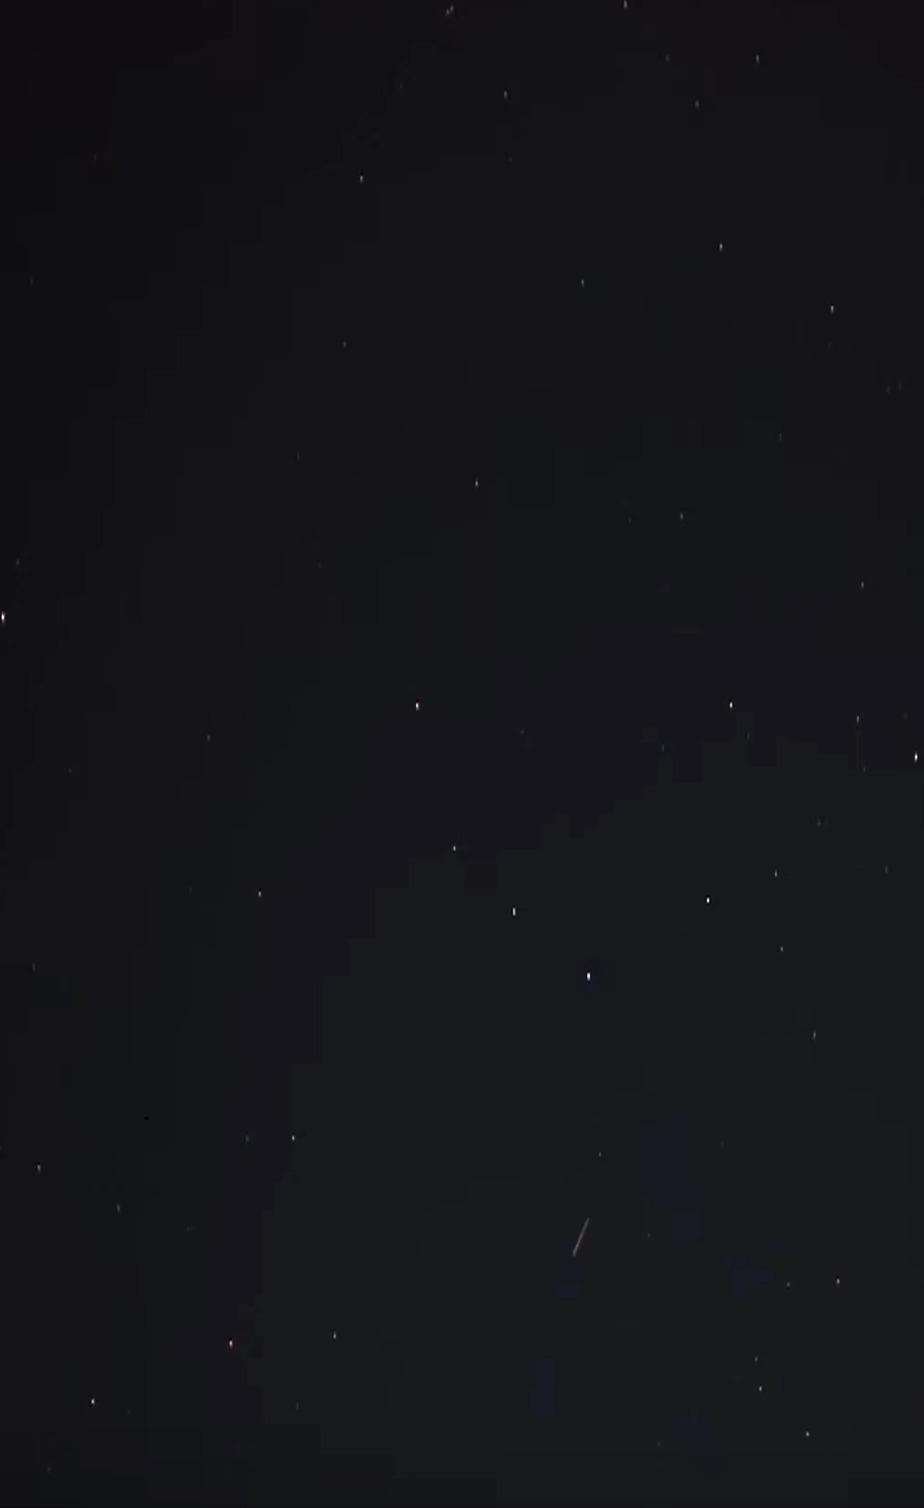meteorite: (542, 1207, 621, 1271)
